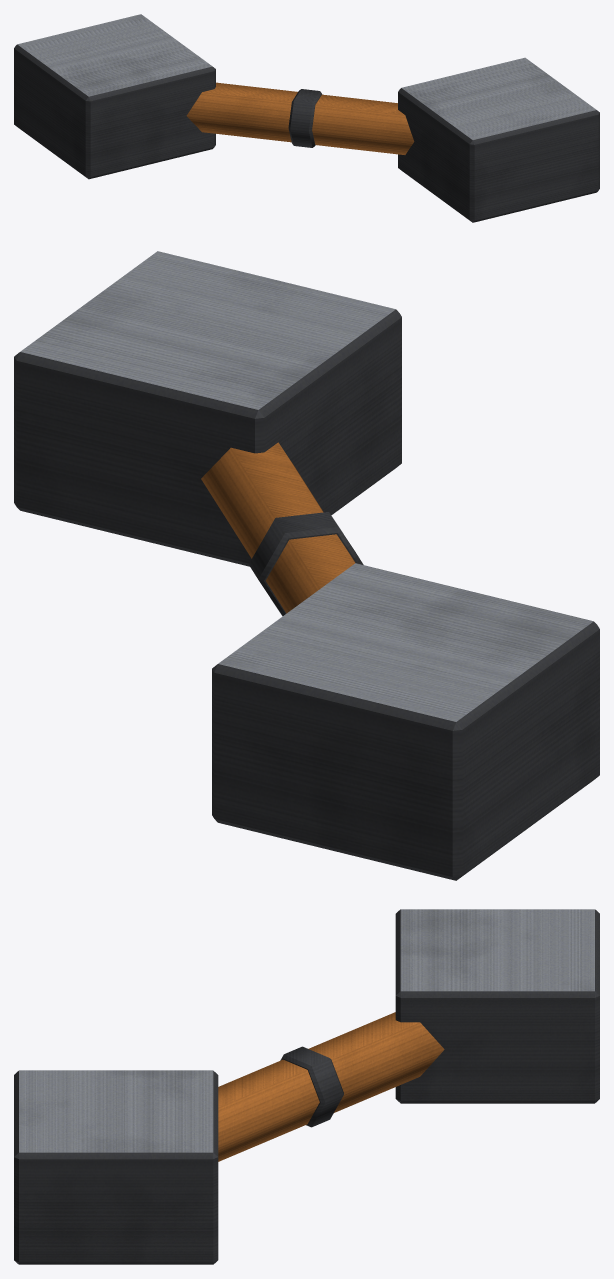
Rendered from R4C_ROD_DIAG_2D_SHORT_LOD1.glb.
The picture shows the model from 3 angles, top to bottom: view 1: azimuth 30°, elevation 25°; view 2: azimuth 150°, elevation 25°; view 3: azimuth 270°, elevation 25°; orthographic projection. The views are drawn at different scales.
Parts seen in each view (by area): view 1: R4C_ROD_DIAG_2D_SHORT_LOD1; view 2: R4C_ROD_DIAG_2D_SHORT_LOD1; view 3: R4C_ROD_DIAG_2D_SHORT_LOD1.
Boxes of the visible parts, x1=… form: R4C_ROD_DIAG_2D_SHORT_LOD1: x1=14, y1=14, x2=599, y2=222; R4C_ROD_DIAG_2D_SHORT_LOD1: x1=14, y1=251, x2=599, y2=880; R4C_ROD_DIAG_2D_SHORT_LOD1: x1=14, y1=909, x2=599, y2=1264.
Size of the model in its own units: 1.07 by 0.226 by 1.07.
3 materials, 3 textured.
